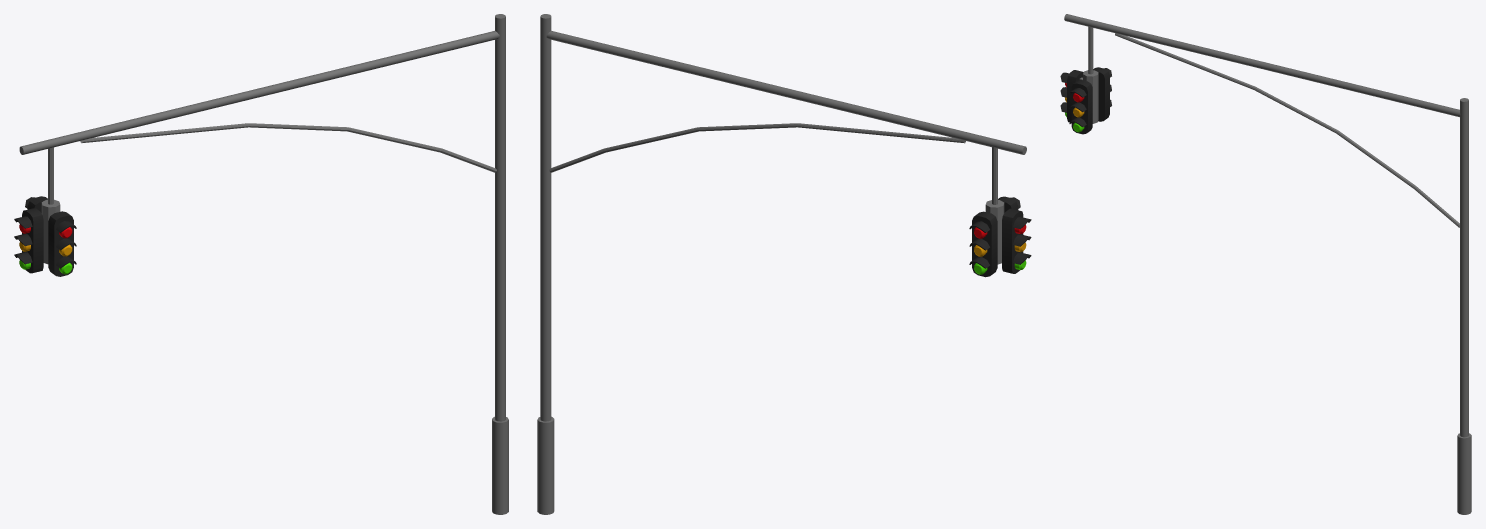
Rendered from TrafficLight1.fbx.
The picture shows the model from 3 angles, left to right: view 1: azimuth 30°, elevation 25°; view 2: azimuth 150°, elevation 25°; view 3: azimuth 330°, elevation 25°; orthographic projection. The views are drawn at different scales.
Visible parts, largest first — view 1: Lamppost1.063; view 2: Lamppost1.063; view 3: Lamppost1.063.
Part boxes in pixels (left/top/right/bottom): Lamppost1.063: left=14, top=14, right=508, bottom=514; Lamppost1.063: left=537, top=14, right=1031, bottom=514; Lamppost1.063: left=1060, top=14, right=1471, bottom=514.
Size of the model in its own units: 996 by 962 by 137.
